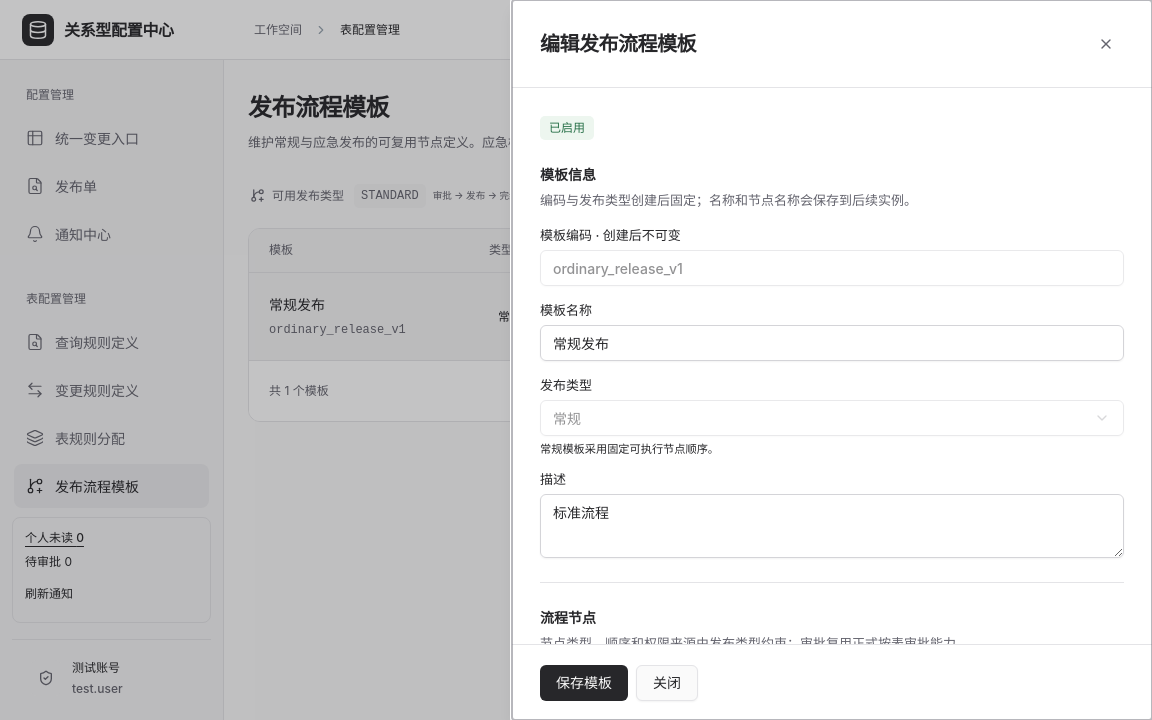
Scenario: 发布流程模板页面 › keeps stale edit input and submits the version observed when editing began
Replace the text in the field labelled "模板名称" with "我的未保存版本" at (832, 343), box [540,325,1124,361]
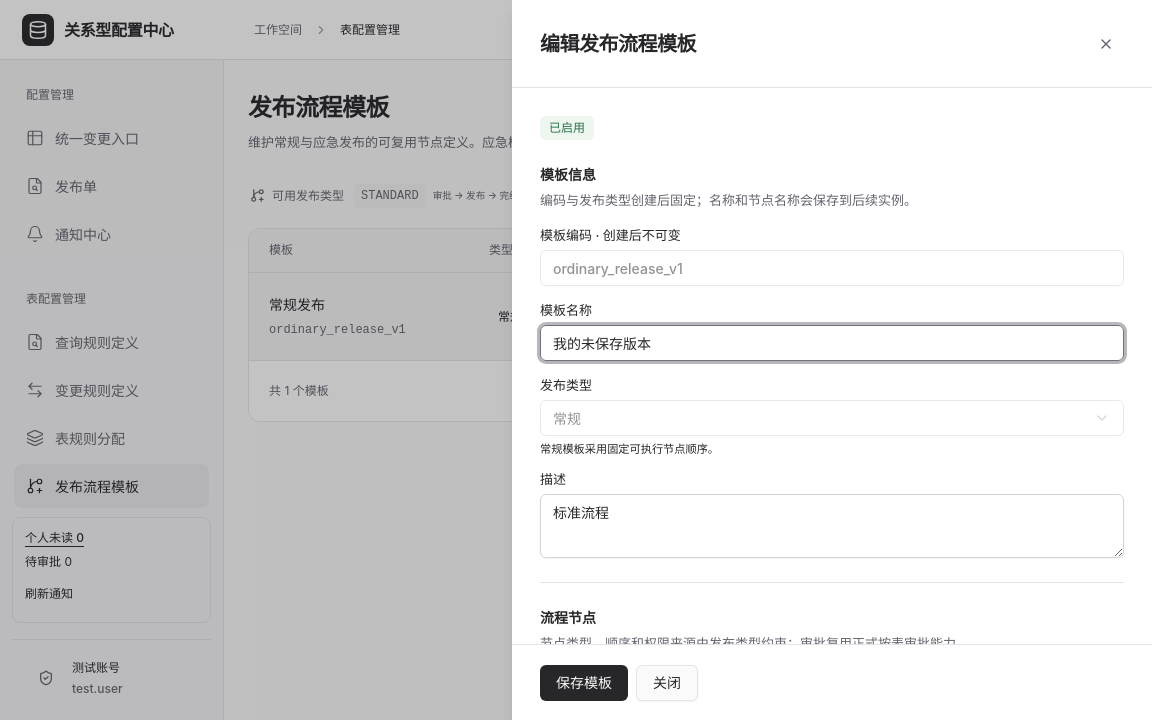
Click the button "保存模板" at (584, 682), box [540,664,628,700]
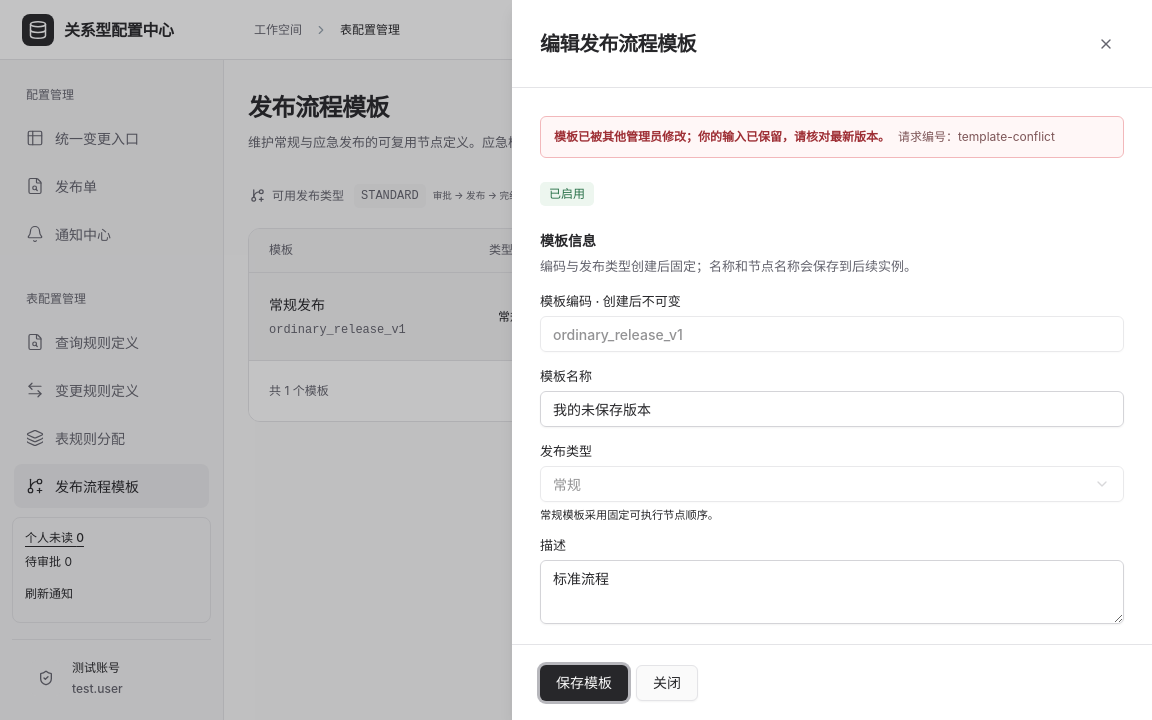
Expected: the text "模板已被其他管理员修改；你的输入已保留，请核对最新版本。" is shown, [554,128,890,146]
